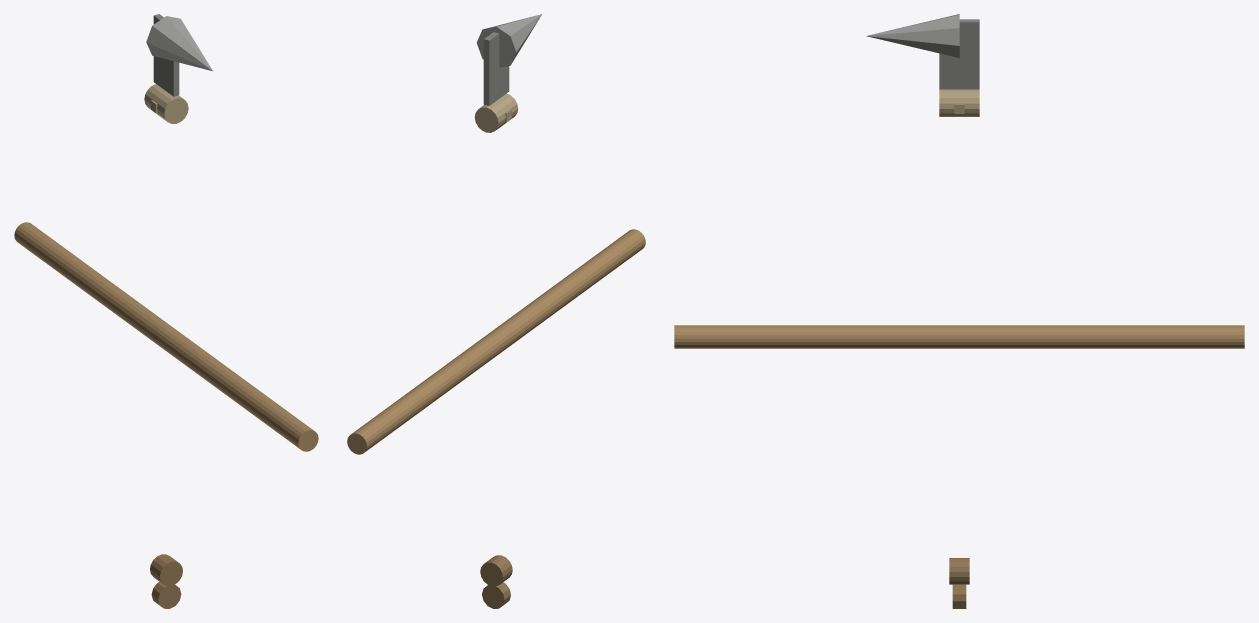
File: spear.glb
3 renders of one model, left to right at view 1: azimuth 30°, elevation 25°; view 2: azimuth 150°, elevation 25°; view 3: azimuth 270°, elevation 25°, orthographic. The views are drawn at different scales.
Parts seen in each view (by area): view 1: geometry_0; view 2: geometry_0; view 3: geometry_0.
Boxes of the visible parts, x1,y1,x2,y2 form: geometry_0: (14,14,318,608); geometry_0: (347,14,645,608); geometry_0: (674,14,1244,608).
Size of the model in its own units: 0.14 by 1.95 by 1.7.
